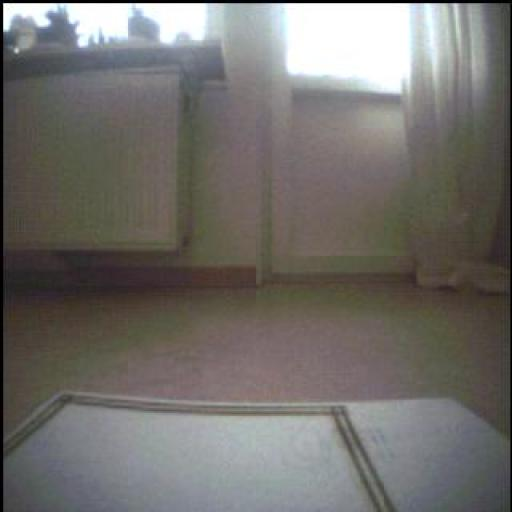Pad: (9, 391, 510, 512)
